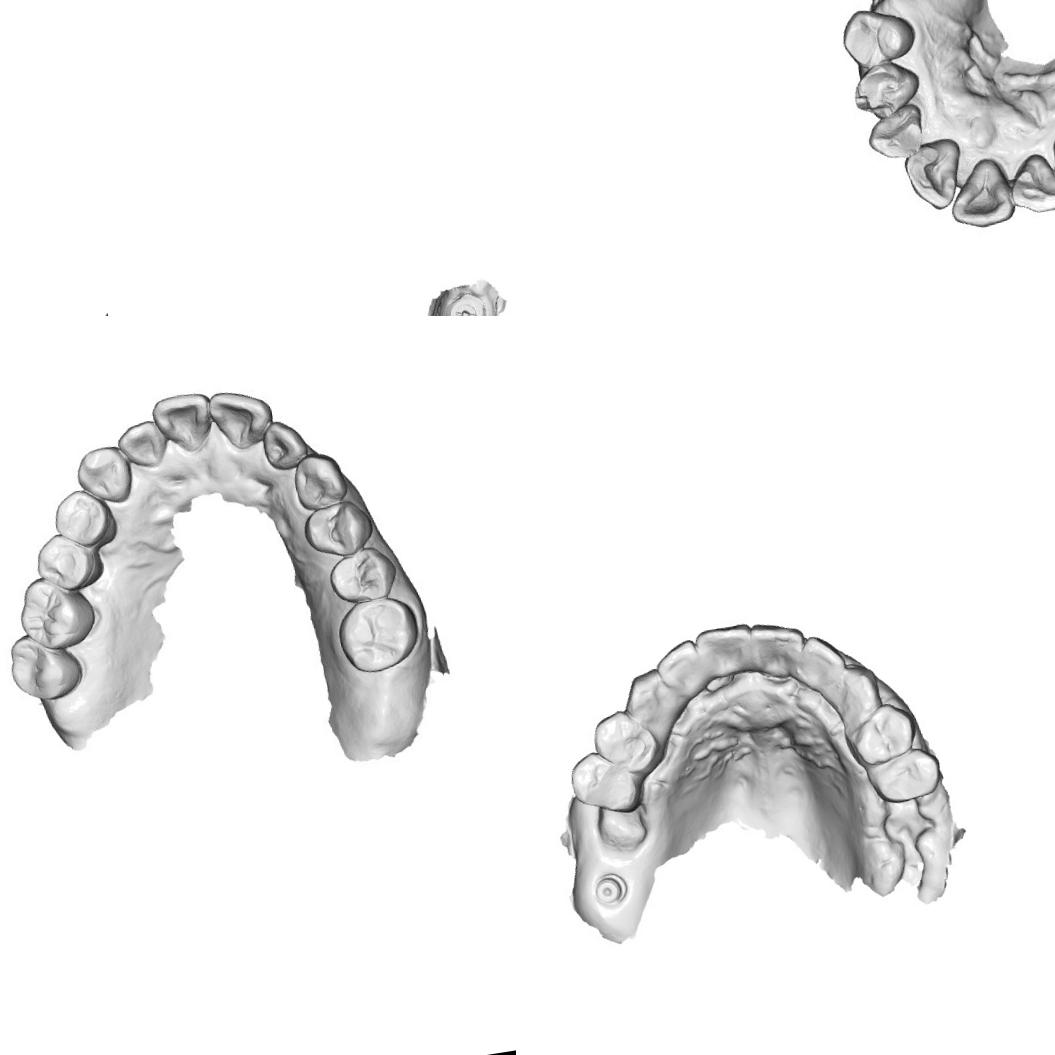canine: (72, 441, 140, 511), (282, 450, 352, 516), (616, 664, 678, 727), (837, 658, 886, 720)
implant: (589, 868, 630, 910), (443, 286, 495, 316)
incisor: (941, 152, 1021, 233), (898, 136, 970, 218), (204, 383, 278, 455), (148, 389, 216, 458), (692, 618, 760, 680), (650, 637, 708, 701), (1003, 149, 1055, 218), (749, 616, 807, 676), (257, 414, 310, 475), (113, 416, 167, 472), (799, 631, 847, 690)
molar: (334, 594, 424, 676), (13, 571, 100, 654), (2, 630, 85, 708)
premolar: (836, 0, 925, 76), (565, 744, 646, 821), (862, 743, 947, 809), (29, 527, 108, 598), (844, 698, 923, 768), (588, 704, 662, 778), (324, 542, 402, 607), (300, 495, 374, 561), (48, 484, 118, 552)
